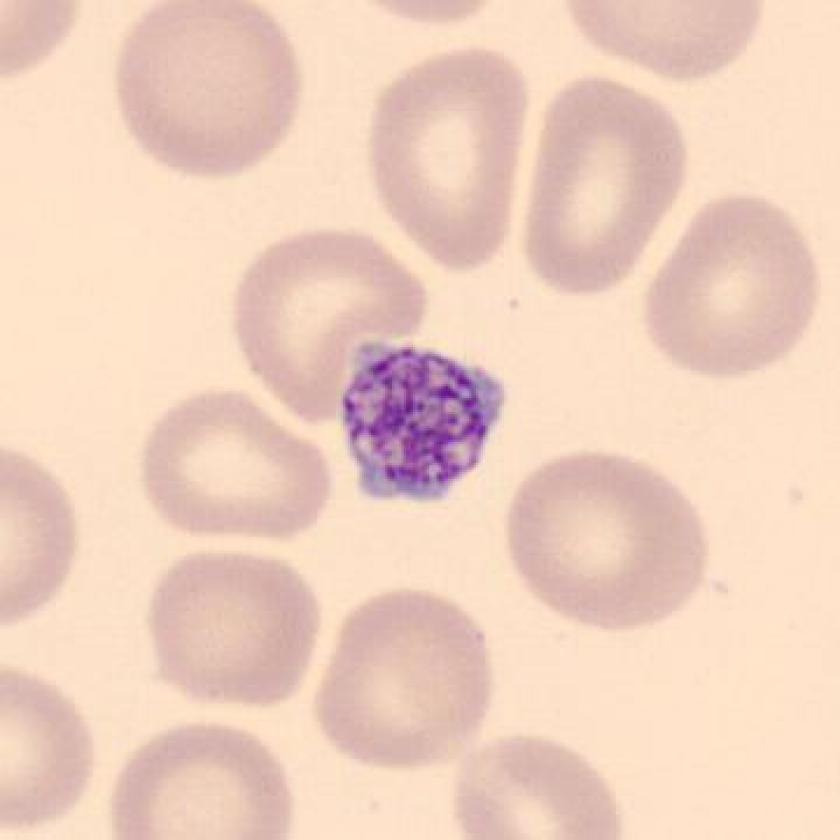platelets: (332, 327, 517, 522)
